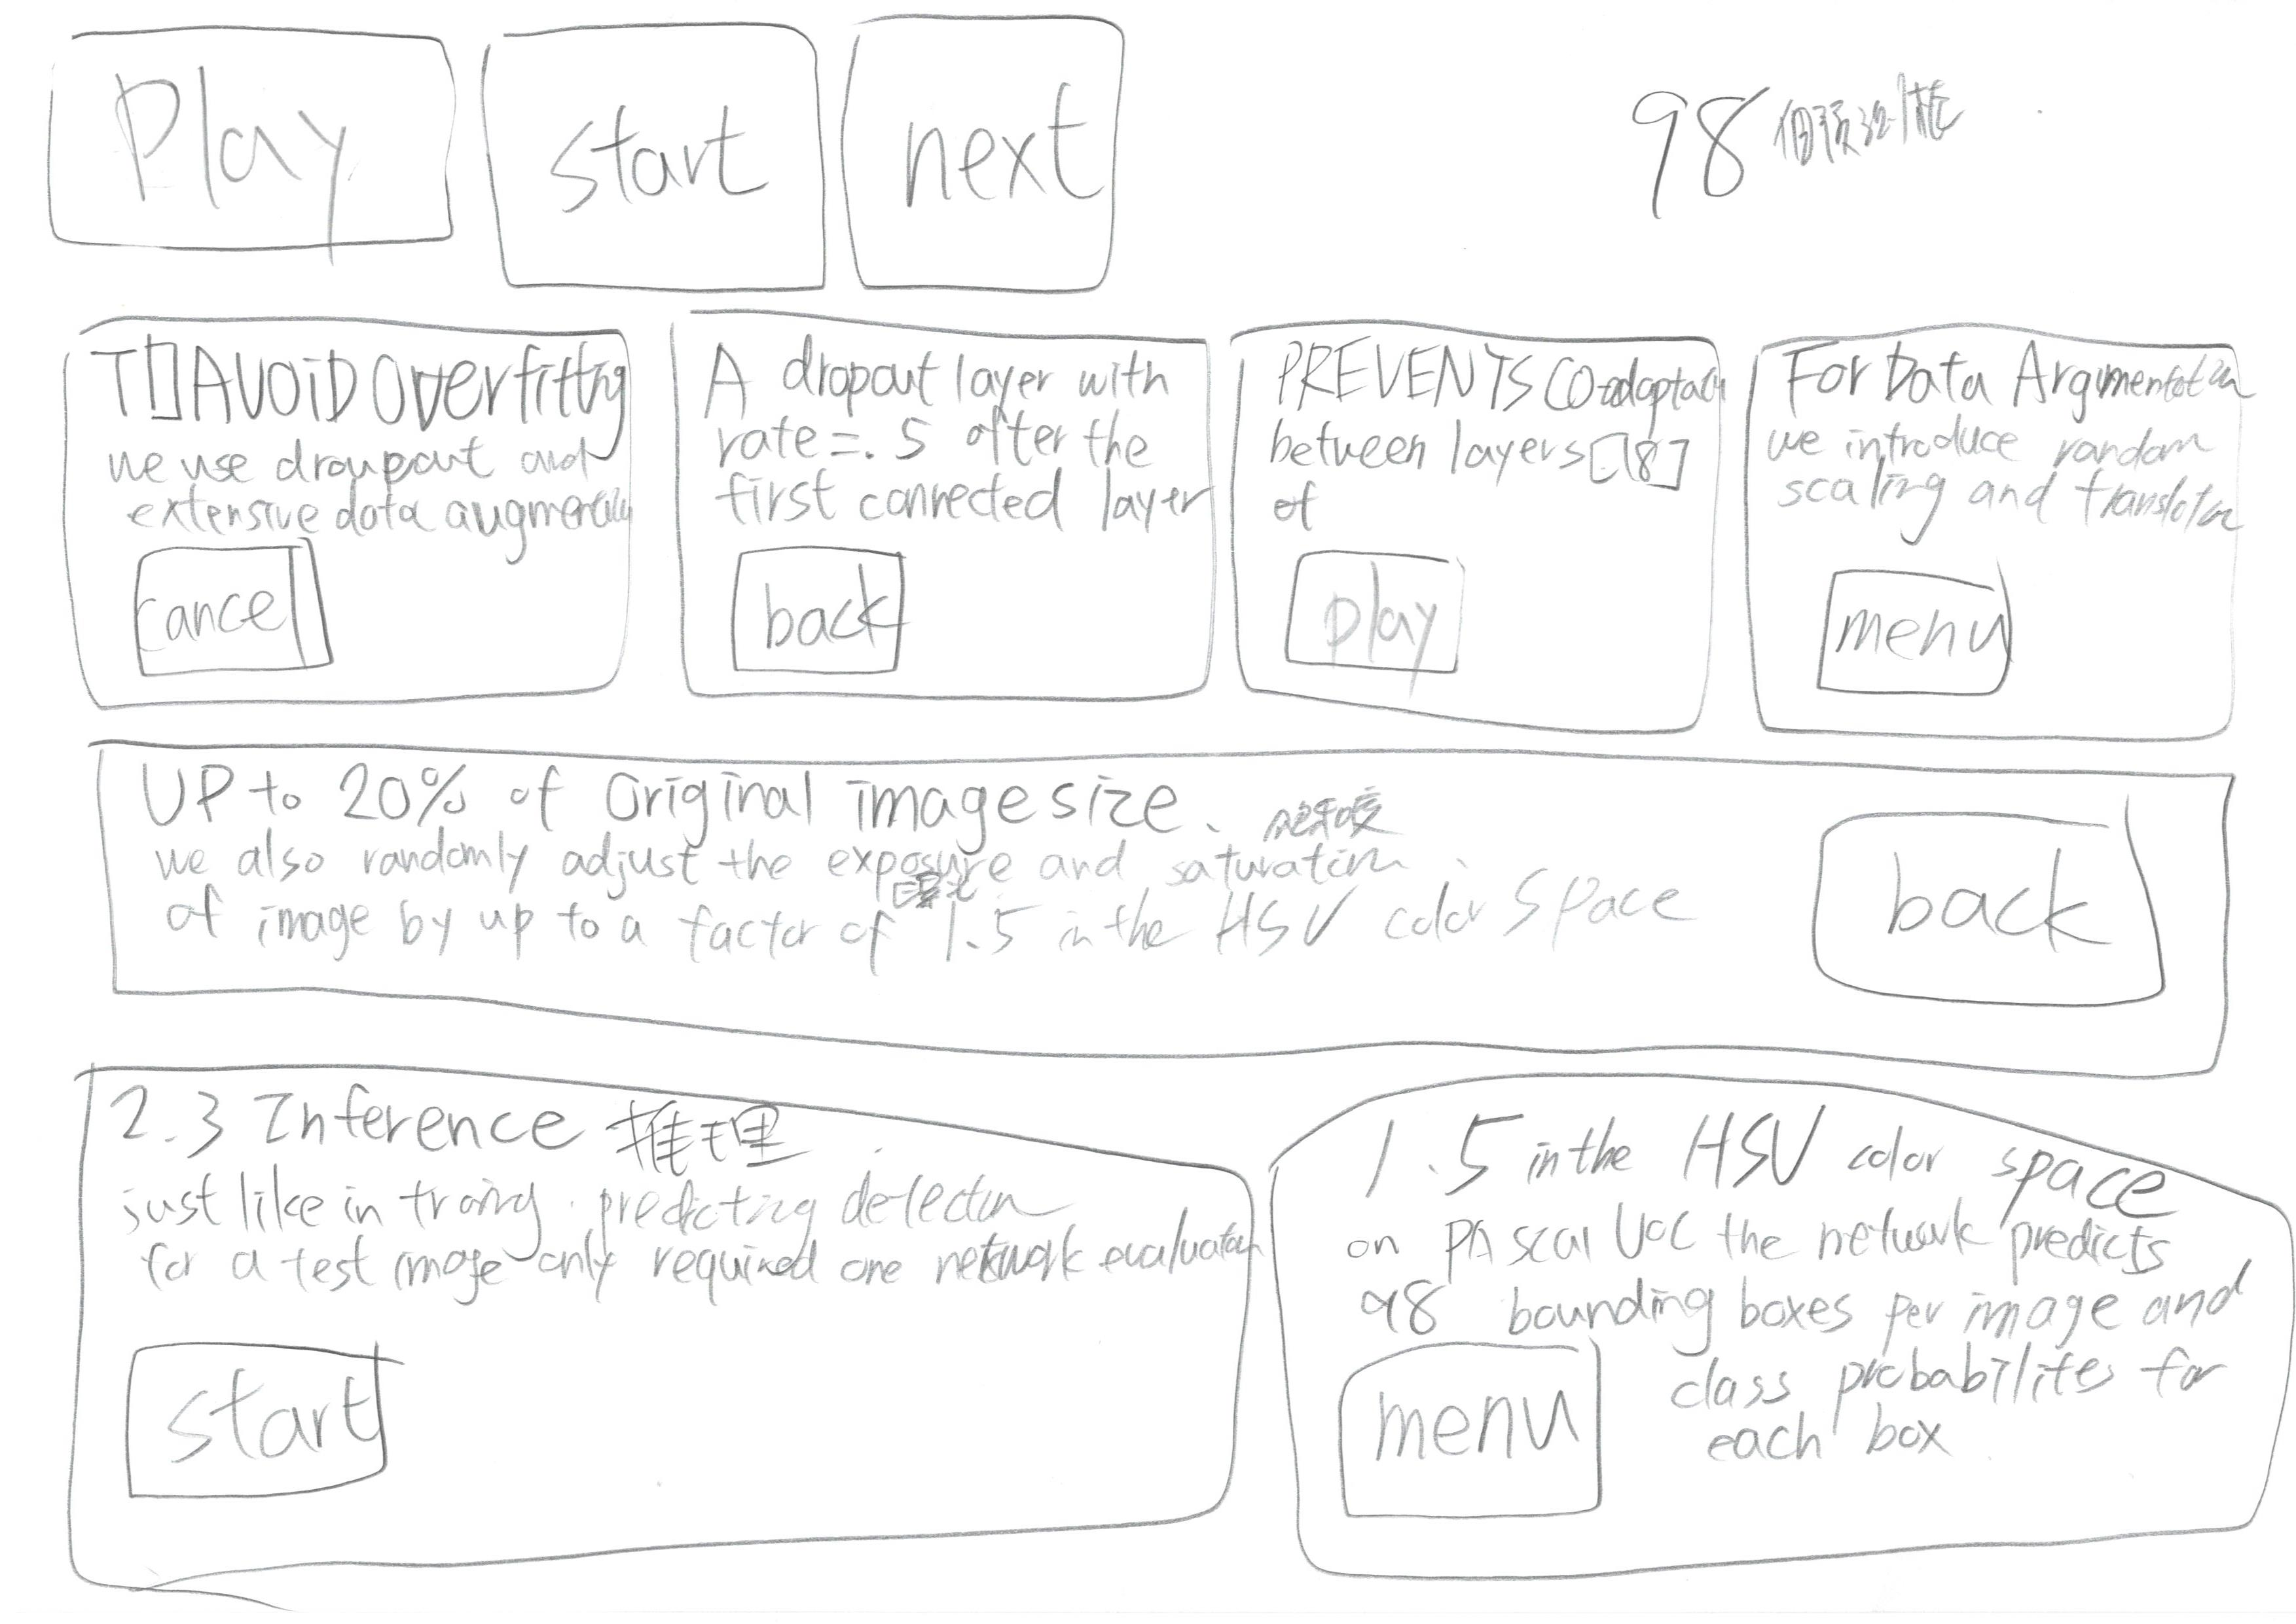back: (710, 531, 962, 714)
cancel: (109, 527, 360, 694)
double: (33, 1044, 1269, 1580), (1241, 1058, 2296, 1601)
menu: (1303, 1334, 1642, 1541), (1786, 547, 2046, 715)
next: (823, 0, 1155, 315)
play: (26, 7, 480, 288), (1264, 529, 1524, 689)
quadruple: (42, 279, 673, 742), (659, 278, 1239, 742), (1726, 286, 2252, 754), (1218, 285, 1744, 750)
row: (14, 1044, 2296, 1592), (11, 283, 2296, 752), (12, 728, 2296, 1098), (4, 2, 2296, 308)
single: (46, 731, 2296, 1109)
small-title: (135, 756, 1435, 833), (97, 1081, 795, 1181), (1370, 1088, 1927, 1206), (95, 334, 619, 436), (1271, 341, 1711, 429), (1776, 334, 2227, 417), (693, 329, 1173, 401)
start: (462, 7, 842, 308), (88, 1318, 464, 1517)
text: (149, 842, 1702, 986), (127, 1169, 1232, 1299), (1324, 1199, 2203, 1338), (1653, 1315, 2252, 1487), (1609, 53, 2022, 206), (1776, 408, 2238, 540), (705, 418, 1202, 533), (1253, 432, 1707, 550), (93, 446, 622, 543)
